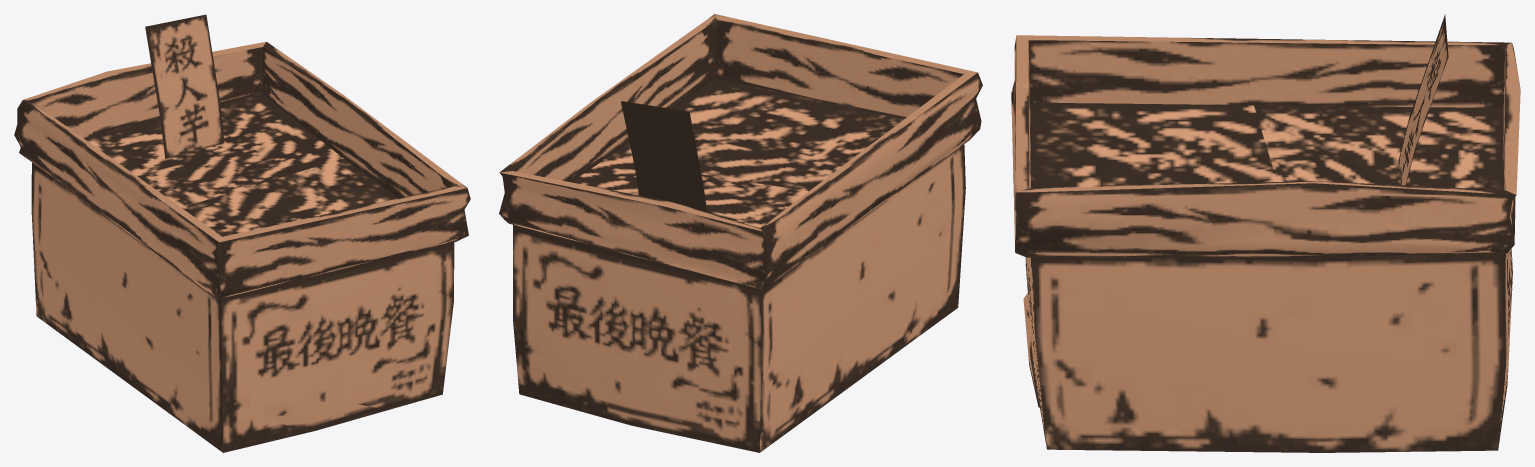
The model's file is bl0019-color.glb.
3 renders of one model, left to right at view 1: azimuth 30°, elevation 25°; view 2: azimuth 150°, elevation 25°; view 3: azimuth 270°, elevation 25°, orthographic. The views are drawn at different scales.
Visible parts, largest first — view 1: bl0019_OO_D0_HP0001_M00_KG, bl0019_OO_D1_EI01_M00_KG_AD00_FT03; view 2: bl0019_OO_D0_HP0001_M00_KG; view 3: bl0019_OO_D0_HP0001_M00_KG, bl0019_OO_D1_EI01_M00_KG_AD00_FT03.
Part boxes in pixels (left/top/right/bottom): bl0019_OO_D0_HP0001_M00_KG: left=14, top=14, right=470, bottom=452; bl0019_OO_D1_EI01_M00_KG_AD00_FT03: left=263, top=402, right=382, bottom=430; bl0019_OO_D0_HP0001_M00_KG: left=499, top=14, right=982, bottom=452; bl0019_OO_D0_HP0001_M00_KG: left=1011, top=14, right=1520, bottom=452; bl0019_OO_D1_EI01_M00_KG_AD00_FT03: left=1023, top=293, right=1039, bottom=407.
Size of the model in its own units: 0.8896 by 0.9324 by 1.22.
Materials: 1 (1 with a texture image).
